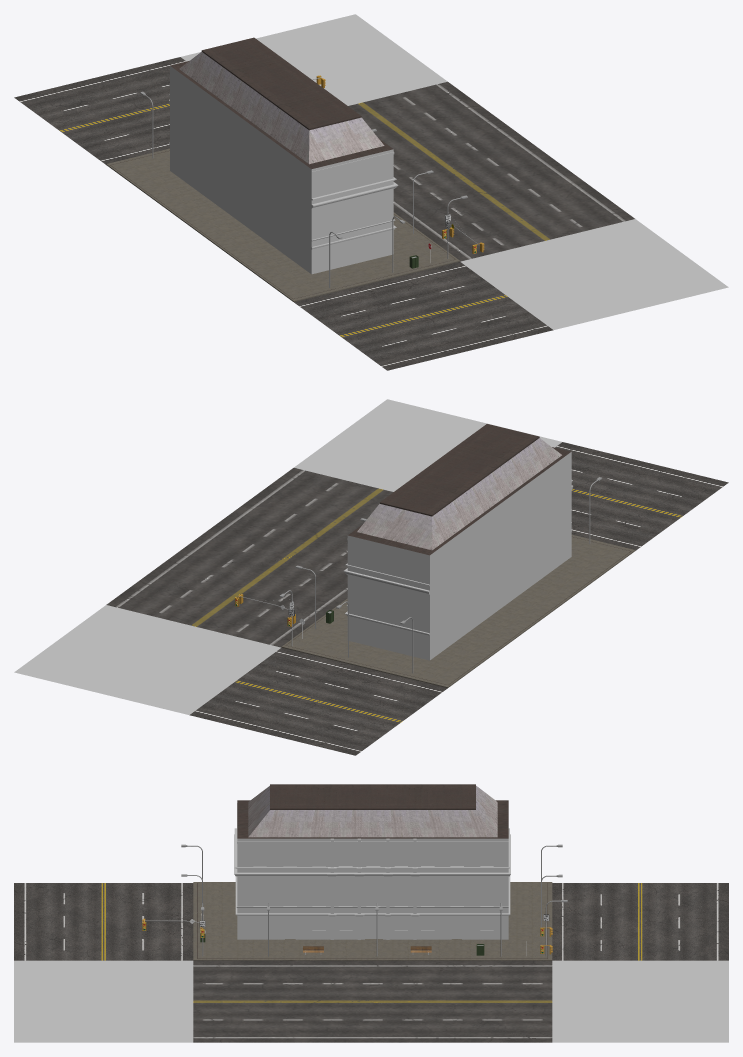
Rendered from 18Century.fbx.
The picture shows the model from 3 angles, top to bottom: view 1: azimuth 30°, elevation 25°; view 2: azimuth 150°, elevation 25°; view 3: azimuth 270°, elevation 25°; orthographic projection. The views are drawn at different scales.
Parts seen in each view (by area): view 1: Road, Building; view 2: Road, Building; view 3: Road, Building.
Boxes of the visible parts, bbox=[...] form: Road: bbox=[14, 14, 728, 370]; Building: bbox=[168, 37, 398, 274]; Road: bbox=[14, 399, 728, 755]; Building: bbox=[343, 424, 573, 660]; Road: bbox=[14, 882, 728, 1042]; Building: bbox=[234, 784, 510, 939].
Bounding box in the file's own units: 4464 × 1658 × 8448.
